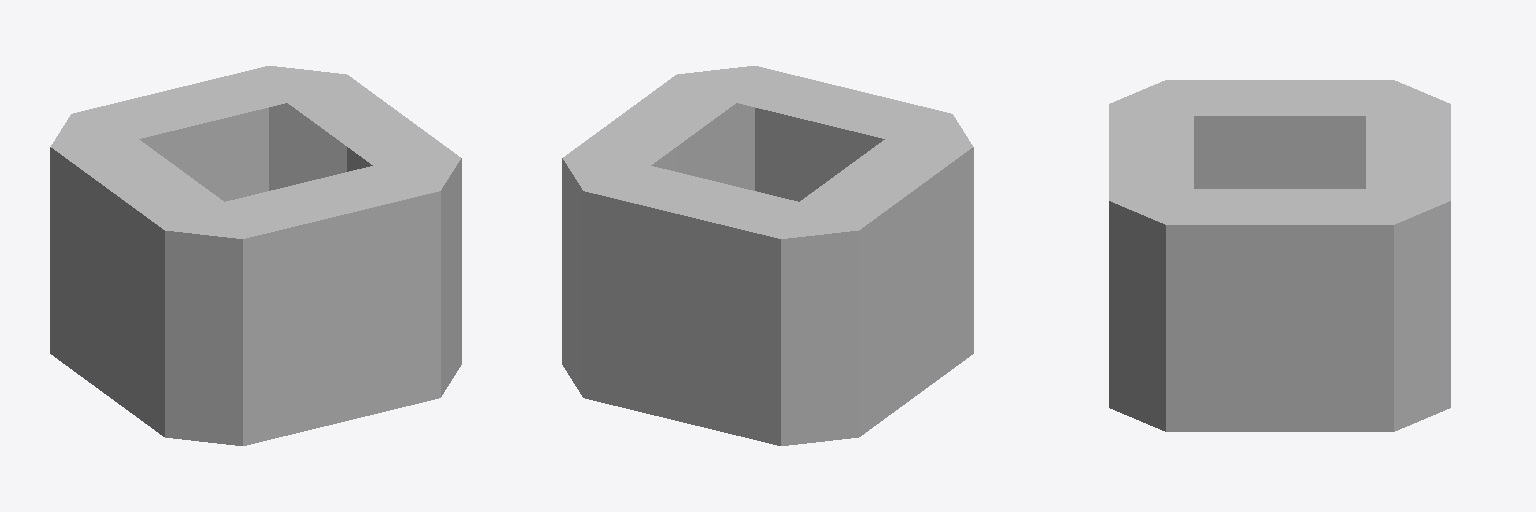
Rendered from VerticleShaft_Top.obj.
3 views of the same model, side by side, from view 1: azimuth 30°, elevation 25°; view 2: azimuth 150°, elevation 25°; view 3: azimuth 270°, elevation 25° (orthographic).
Visible parts, largest first — view 1: VerticleShaft_Top_Plane.002; view 2: VerticleShaft_Top_Plane.002; view 3: VerticleShaft_Top_Plane.002.
Part boxes in pixels (x1,y1,x2,y2): VerticleShaft_Top_Plane.002: (50, 66, 461, 445); VerticleShaft_Top_Plane.002: (562, 66, 973, 445); VerticleShaft_Top_Plane.002: (1109, 80, 1450, 431).
Bounding box in the file's own units: 6 × 4 × 6.